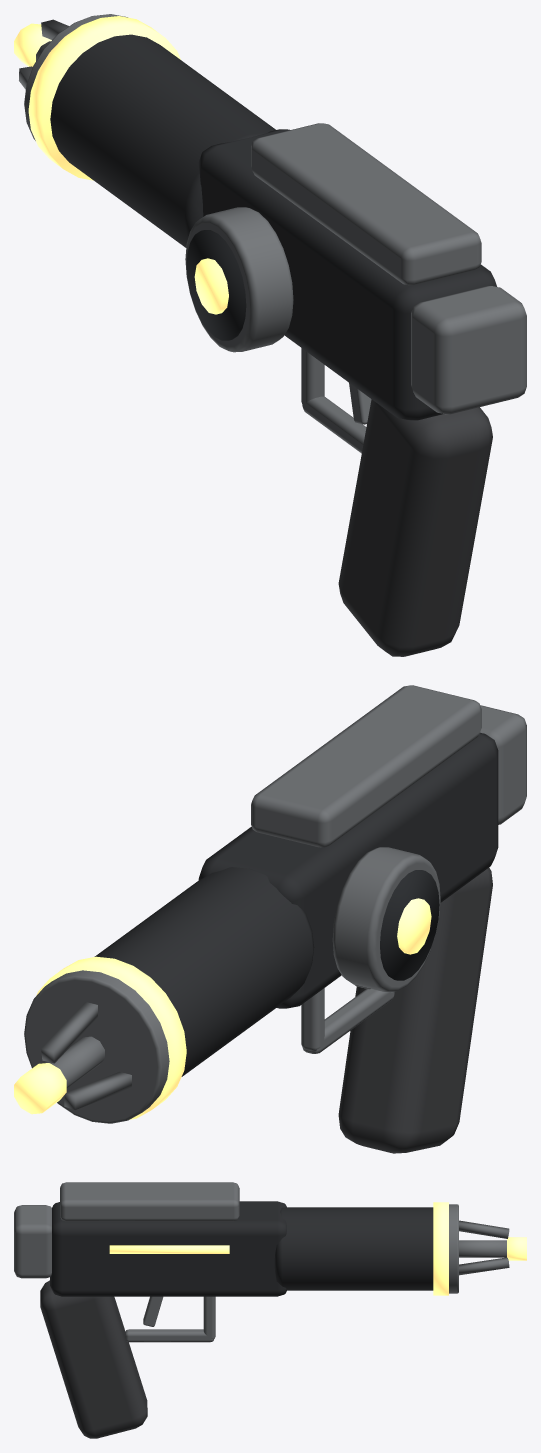
Rendered from grapple_gun.glb.
3 renders of one model, top to bottom at view 1: azimuth 30°, elevation 25°; view 2: azimuth 150°, elevation 25°; view 3: azimuth 270°, elevation 25°, orthographic. The views are drawn at different scales.
Parts seen in each view (by area): view 1: Handle, Tube, Body, BodyTop, Rear, Spool, TubeRing, SpoolCable, TriggerGuard, Hook, SpoolCap, GuardPost (+1 smaller); view 2: Handle, Tube, Body, BodyTop, TubeLip, Spool, Hook, TubeRing, SpoolCable, Rear, TriggerGuard, SpoolCap (+1 smaller); view 3: Body, Tube, Handle, BodyTop, Rear, Hook, TubeRing, TriggerGuard, SideLight, TubeLip, GuardPost, Trigger.
Part boxes in pixels (box(x1,y1,x2,y2)): Handle: box(338, 399, 492, 656); Tube: box(50, 34, 275, 247); Body: box(198, 129, 496, 420); BodyTop: box(251, 123, 481, 285); Rear: box(411, 286, 526, 414); Spool: box(185, 207, 293, 352); TubeRing: box(28, 16, 180, 180); SpoolCable: box(186, 230, 246, 340); TriggerGuard: box(302, 396, 366, 453); Hook: box(14, 19, 68, 89); SpoolCap: box(194, 258, 228, 314); GuardPost: box(301, 348, 324, 406); Handle: box(338, 867, 492, 1153); Tube: box(94, 867, 314, 1076); Body: box(198, 732, 498, 1008); BodyTop: box(251, 685, 481, 847); TubeLip: box(24, 970, 169, 1123); Spool: box(332, 847, 440, 992); Hook: box(14, 1002, 131, 1114); TubeRing: box(36, 956, 186, 1119); SpoolCable: box(380, 870, 439, 980); Rear: box(480, 705, 526, 824); TriggerGuard: box(303, 989, 394, 1053); SpoolCap: box(397, 898, 431, 954); Body: box(50, 1201, 286, 1296); Tube: box(274, 1207, 433, 1290); Handle: box(40, 1280, 147, 1438); BodyTop: box(60, 1182, 239, 1221); Rear: box(14, 1205, 51, 1278); Hook: box(459, 1220, 526, 1275); TubeRing: box(433, 1202, 448, 1295); TriggerGuard: box(125, 1329, 213, 1342); SideLight: box(109, 1245, 229, 1253); TubeLip: box(449, 1204, 458, 1293); GuardPost: box(203, 1296, 215, 1339); Trigger: box(143, 1296, 163, 1326).
Bounding box in the file's own units: 0.0575 × 0.1337 × 0.257.
